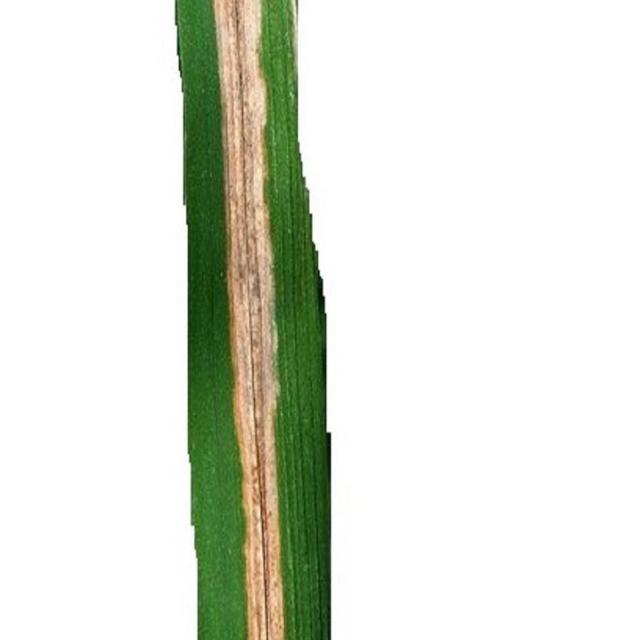Bacterial leaf blight: (215, 0, 284, 640)
